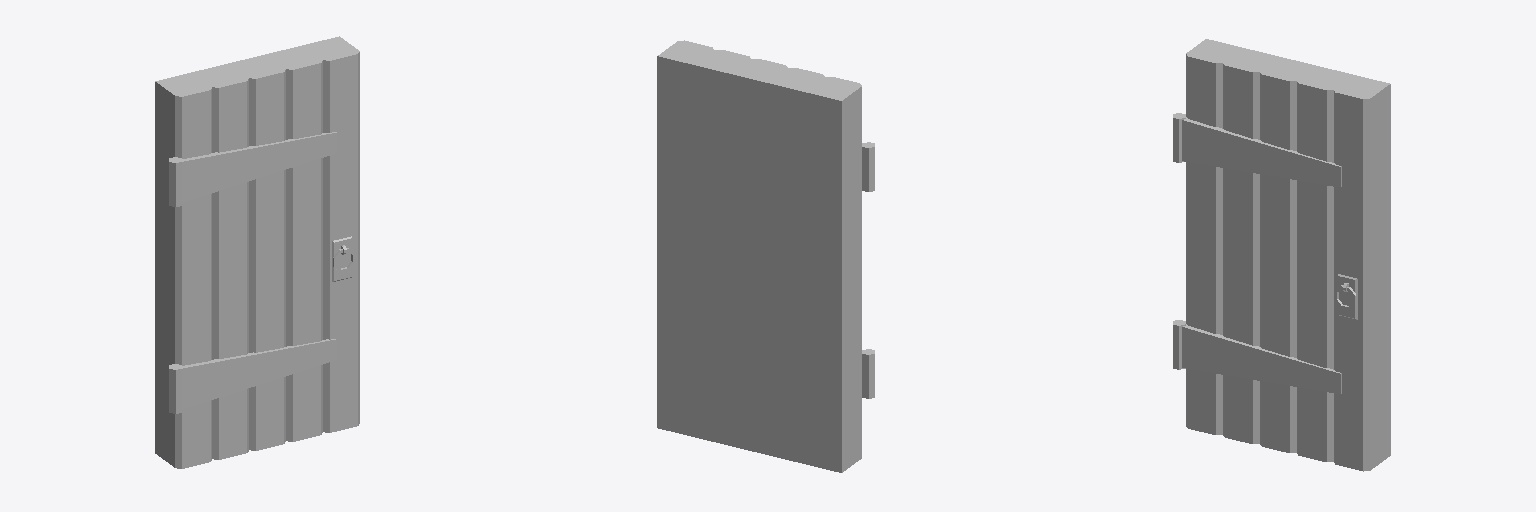
Rendered from doa.obj.
The picture shows the model from 3 angles: view 1: azimuth 30°, elevation 25°; view 2: azimuth 150°, elevation 25°; view 3: azimuth 330°, elevation 25°; orthographic projection.
Parts seen in each view (by area): view 1: group1 homedoa:object4, group1 homedoa:object1, group1 homedoa:object2, group1 homedoa:object3; view 2: group1 homedoa:object4, group1 homedoa:object1, group1 homedoa:object2; view 3: group1 homedoa:object4, group1 homedoa:object1, group1 homedoa:object2, group1 homedoa:object3.
Boxes of the visible parts, box(x1,y1,x2,y2) form: group1 homedoa:object4: box(155, 36, 359, 468); group1 homedoa:object1: box(169, 132, 336, 206); group1 homedoa:object2: box(169, 339, 336, 413); group1 homedoa:object3: box(332, 236, 351, 281); group1 homedoa:object4: box(657, 40, 861, 472); group1 homedoa:object1: box(862, 142, 874, 191); group1 homedoa:object2: box(862, 349, 874, 398); group1 homedoa:object4: box(1186, 39, 1390, 471); group1 homedoa:object1: box(1173, 113, 1341, 187); group1 homedoa:object2: box(1173, 320, 1341, 393); group1 homedoa:object3: box(1338, 274, 1357, 319).
Size of the model in its own units: 0.8244 by 1.51 by 0.1989.